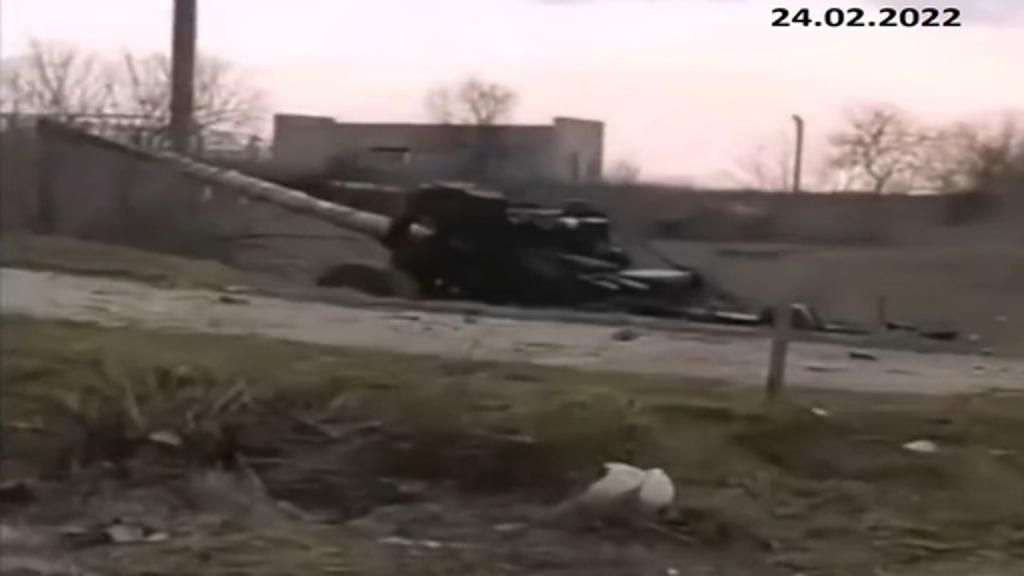ART: (32, 110, 958, 342)
